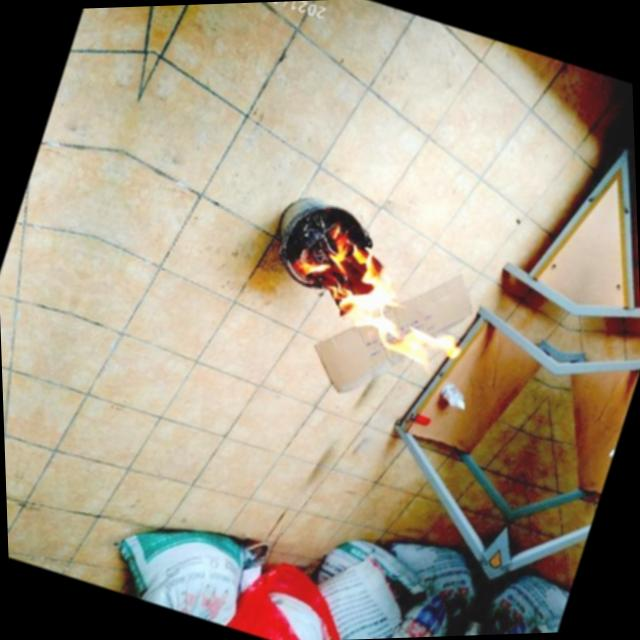fire: (260, 196, 478, 382)
